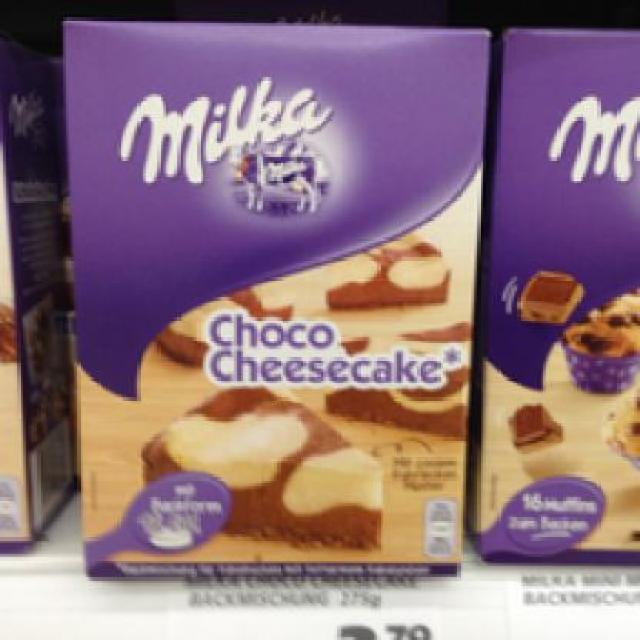Cake: (54, 11, 486, 580), (468, 20, 638, 563)
